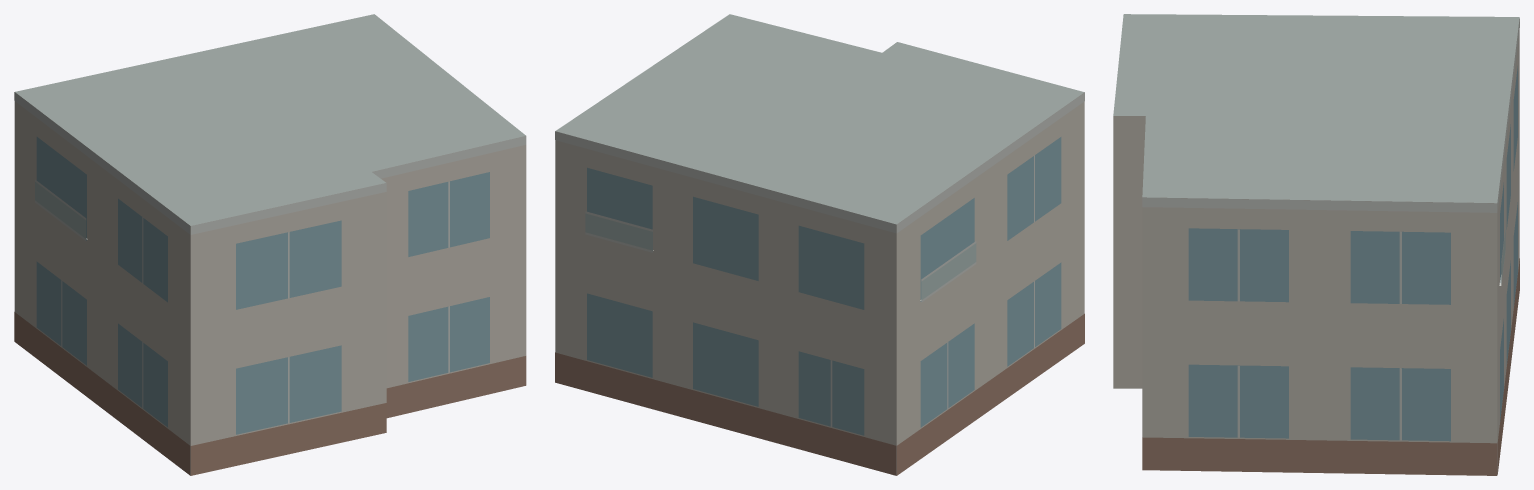
File: survey-upis-32604389.glb
3 renders of one model, left to right at view 1: azimuth 30°, elevation 25°; view 2: azimuth 150°, elevation 25°; view 3: azimuth 270°, elevation 25°, orthographic. The views are drawn at different scales.
Parts seen in each view (by area): view 1: survey-upis-32604389.tmp; view 2: survey-upis-32604389.tmp; view 3: survey-upis-32604389.tmp.
Boxes of the visible parts, bbox=[...] form: survey-upis-32604389.tmp: bbox=[14, 14, 526, 475]; survey-upis-32604389.tmp: bbox=[555, 14, 1084, 475]; survey-upis-32604389.tmp: bbox=[1113, 14, 1519, 475].
Bounding box in the file's own units: 10.13 × 6.8 × 9.2.
